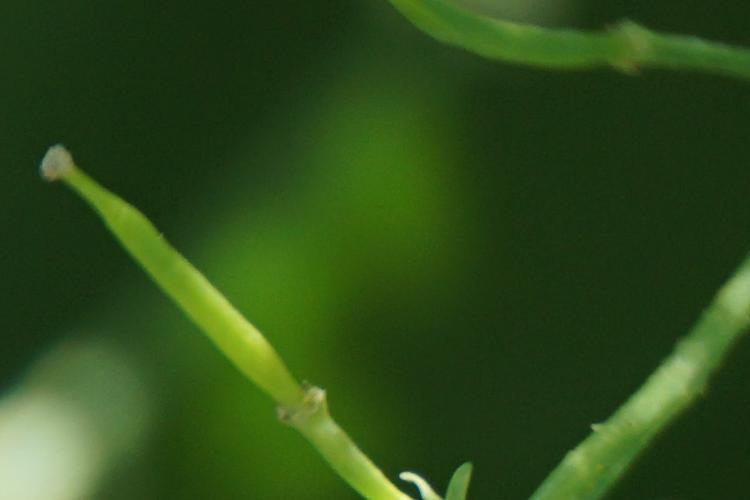pod: (28, 136, 343, 449)
